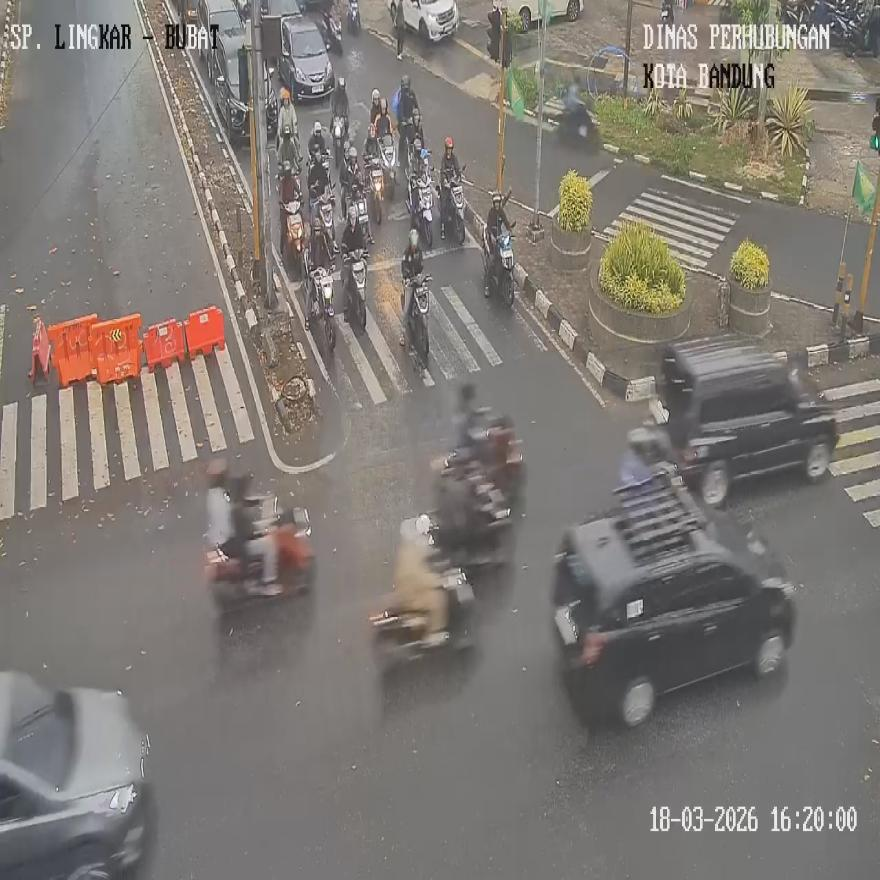Mobil: (552, 463, 796, 726), (650, 335, 839, 506), (0, 671, 155, 879)
Motor: (370, 515, 475, 674), (432, 461, 512, 579), (245, 494, 314, 595), (480, 411, 525, 506), (620, 426, 677, 486), (306, 251, 335, 351), (401, 273, 432, 362), (482, 228, 514, 306), (438, 164, 466, 244), (342, 246, 368, 331), (407, 163, 433, 248), (313, 267, 335, 351), (282, 200, 305, 279), (559, 103, 598, 145), (311, 185, 336, 250), (844, 18, 879, 57), (348, 185, 371, 242), (365, 159, 384, 224), (381, 135, 397, 200), (307, 148, 334, 185), (782, 0, 818, 26), (398, 119, 413, 178), (323, 10, 342, 54), (332, 117, 348, 169), (407, 139, 426, 175), (321, 151, 334, 188), (349, 0, 361, 35), (660, 0, 673, 25)
